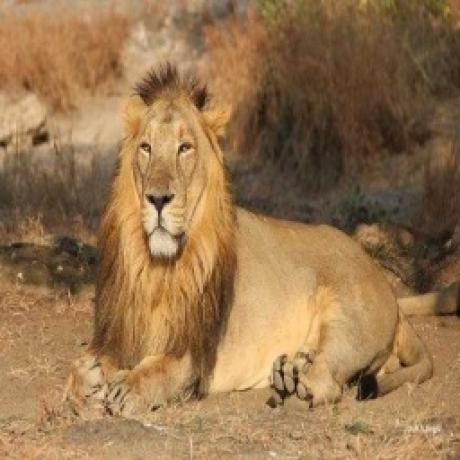Lion: (66, 72, 452, 417)
